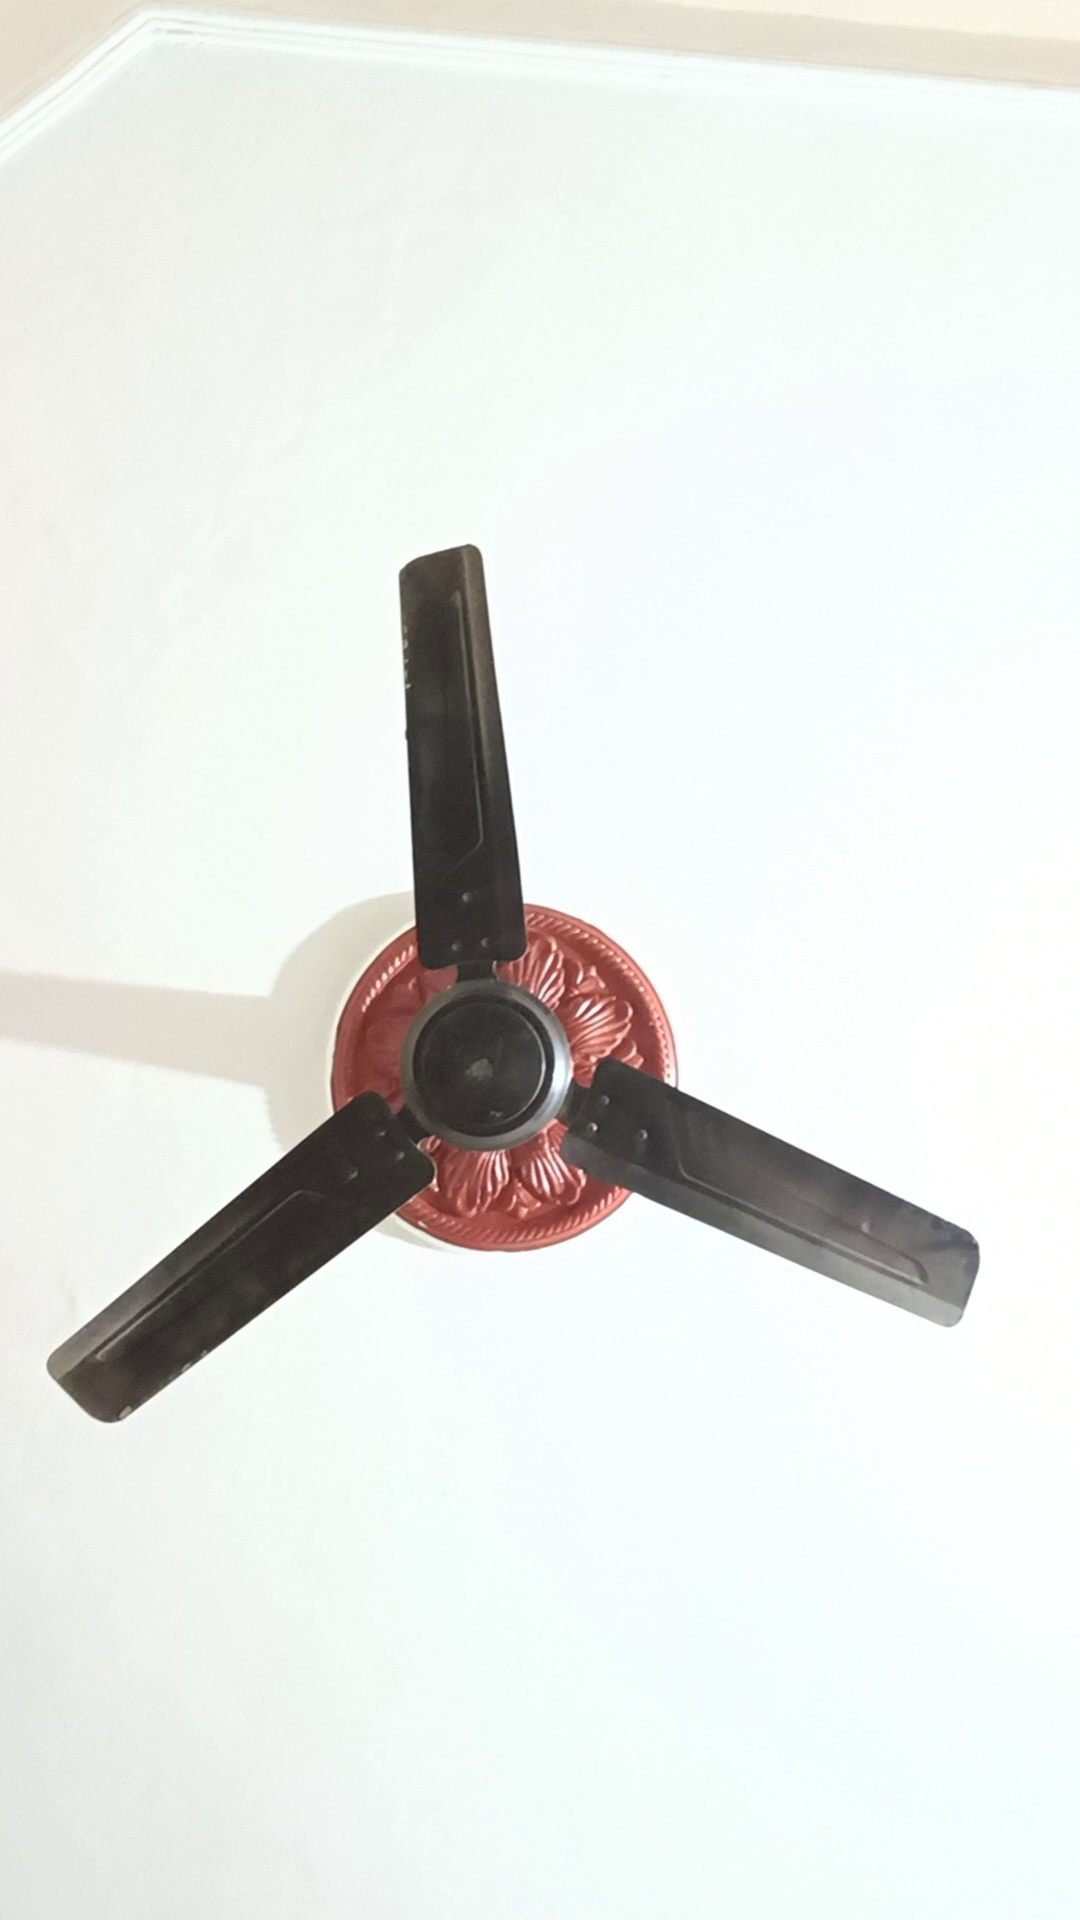fan: (338, 533, 1014, 1366)
